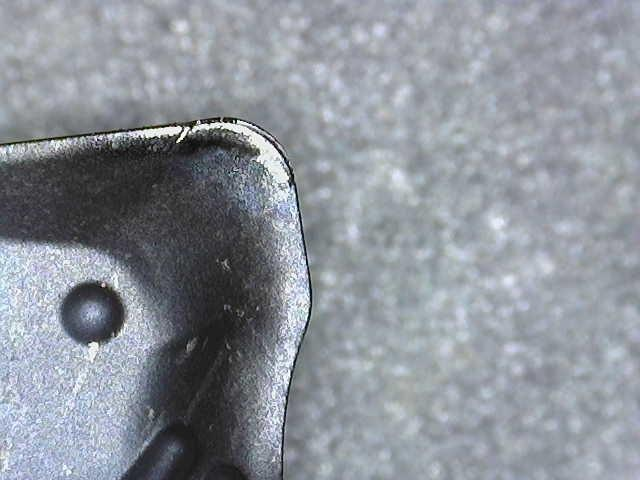normal: (264, 180, 308, 479), (4, 131, 176, 170)
wear: (138, 119, 289, 189)
